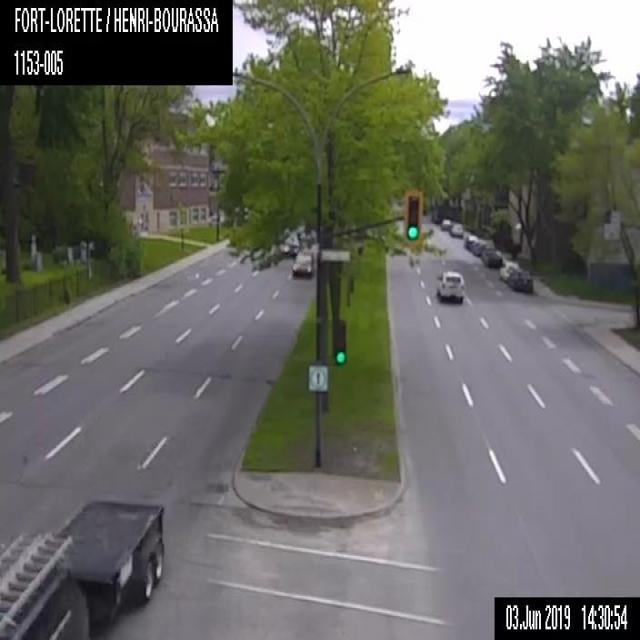vehicle: (0, 497, 165, 638), (499, 260, 533, 294), (434, 266, 464, 302), (292, 249, 315, 278), (282, 232, 300, 256), (482, 247, 502, 266), (463, 234, 478, 248), (450, 222, 462, 236), (441, 218, 451, 228)
